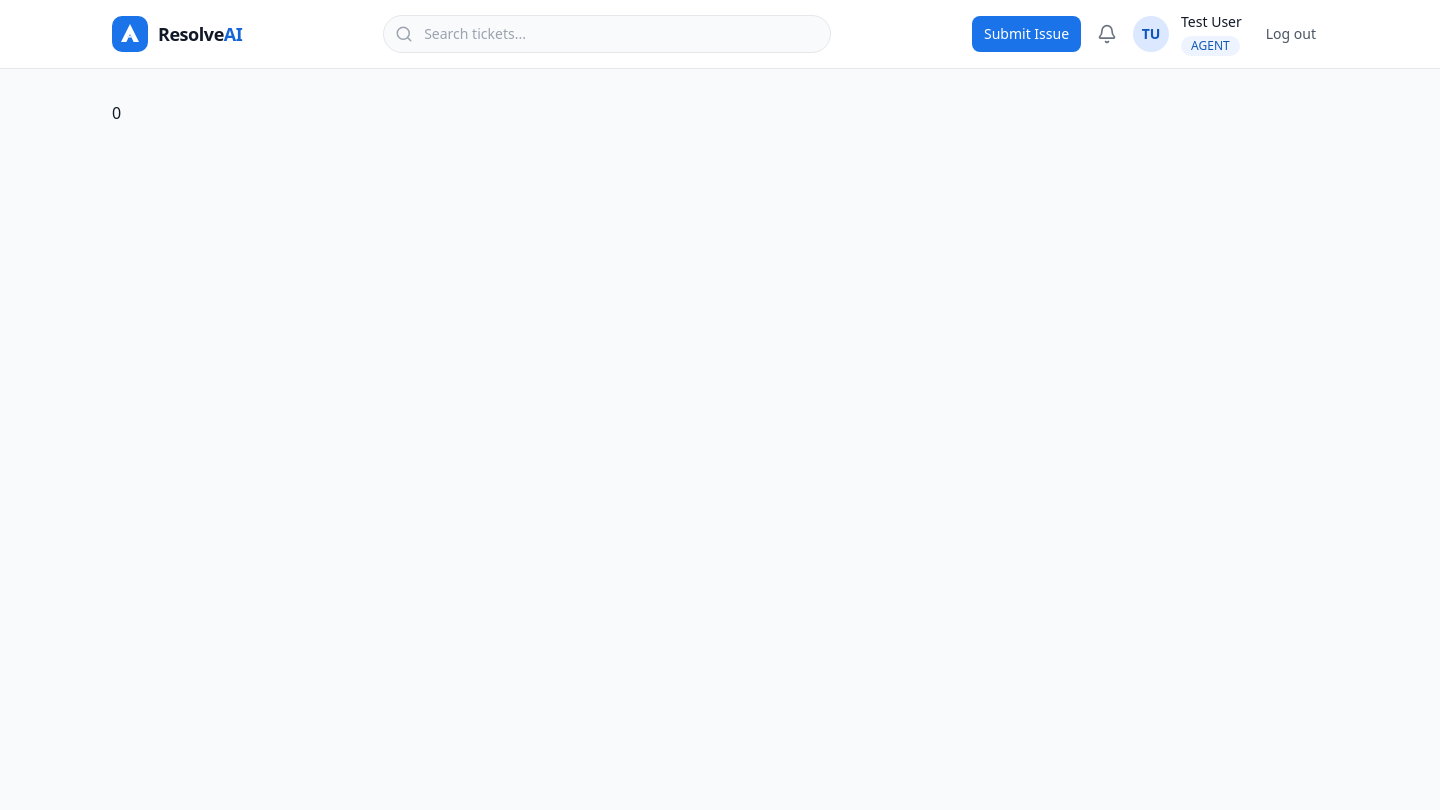
it: AppLayout submit flow › increments ticketsVersion, shows triage details for agents, and dismisses the notice
Click the button "Submit Issue" at x=1027, y=34, box [972,16,1081,52]
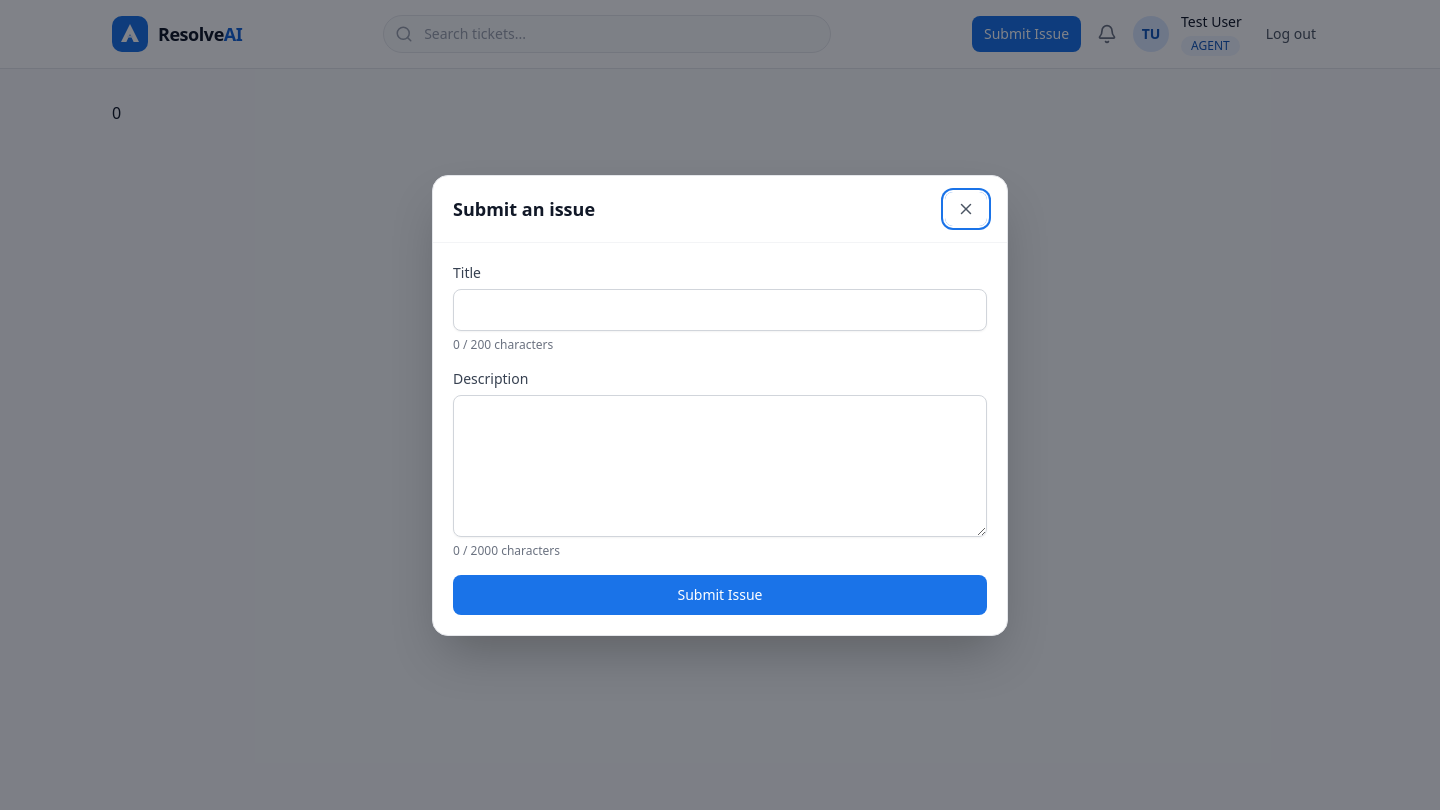
Type "Layout issue" into the field labelled "Title" at x=720, y=310, box [453,288,987,330]
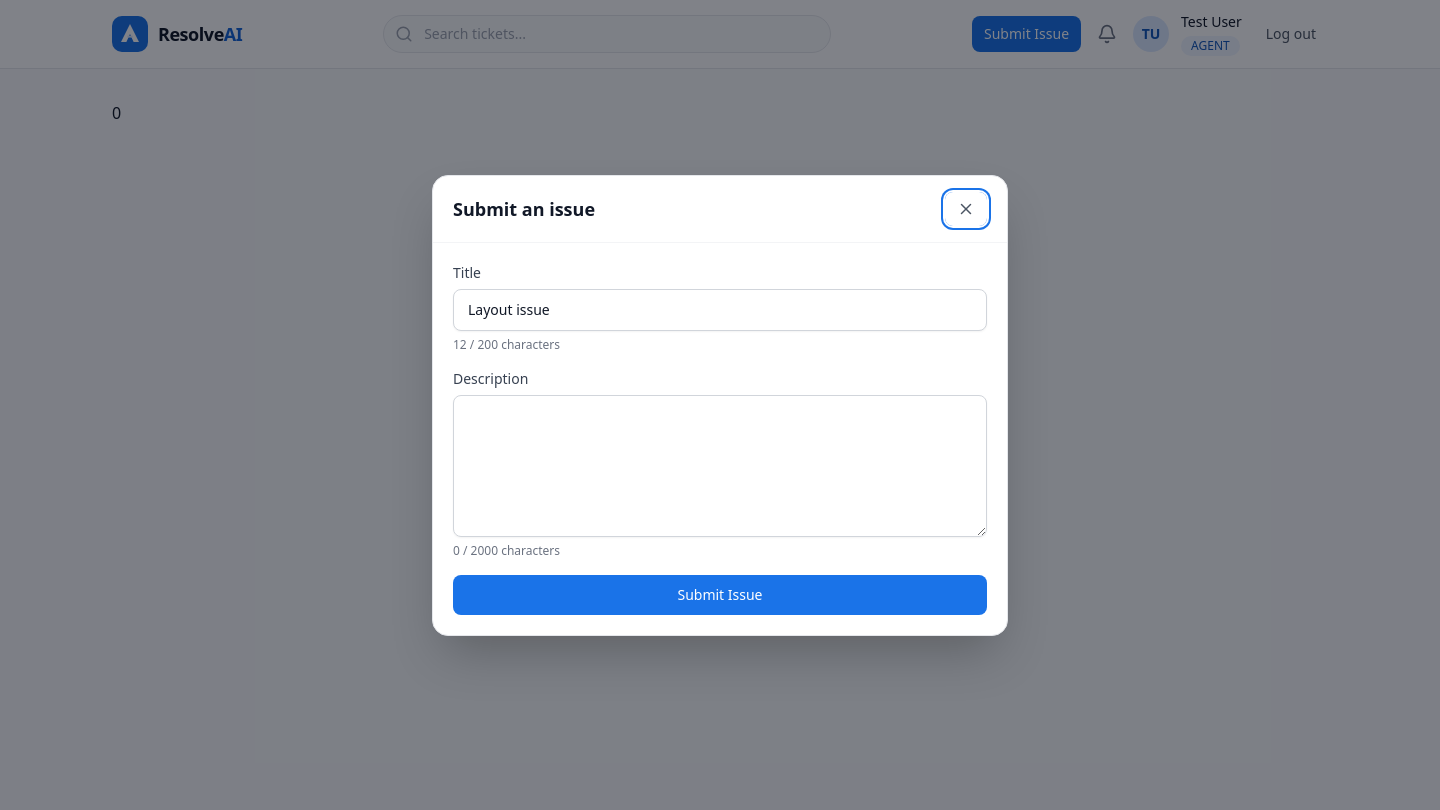
Type "The page layout has a visible issue." into the text box labelled "Description" at x=720, y=466, box [453,394,987,536]
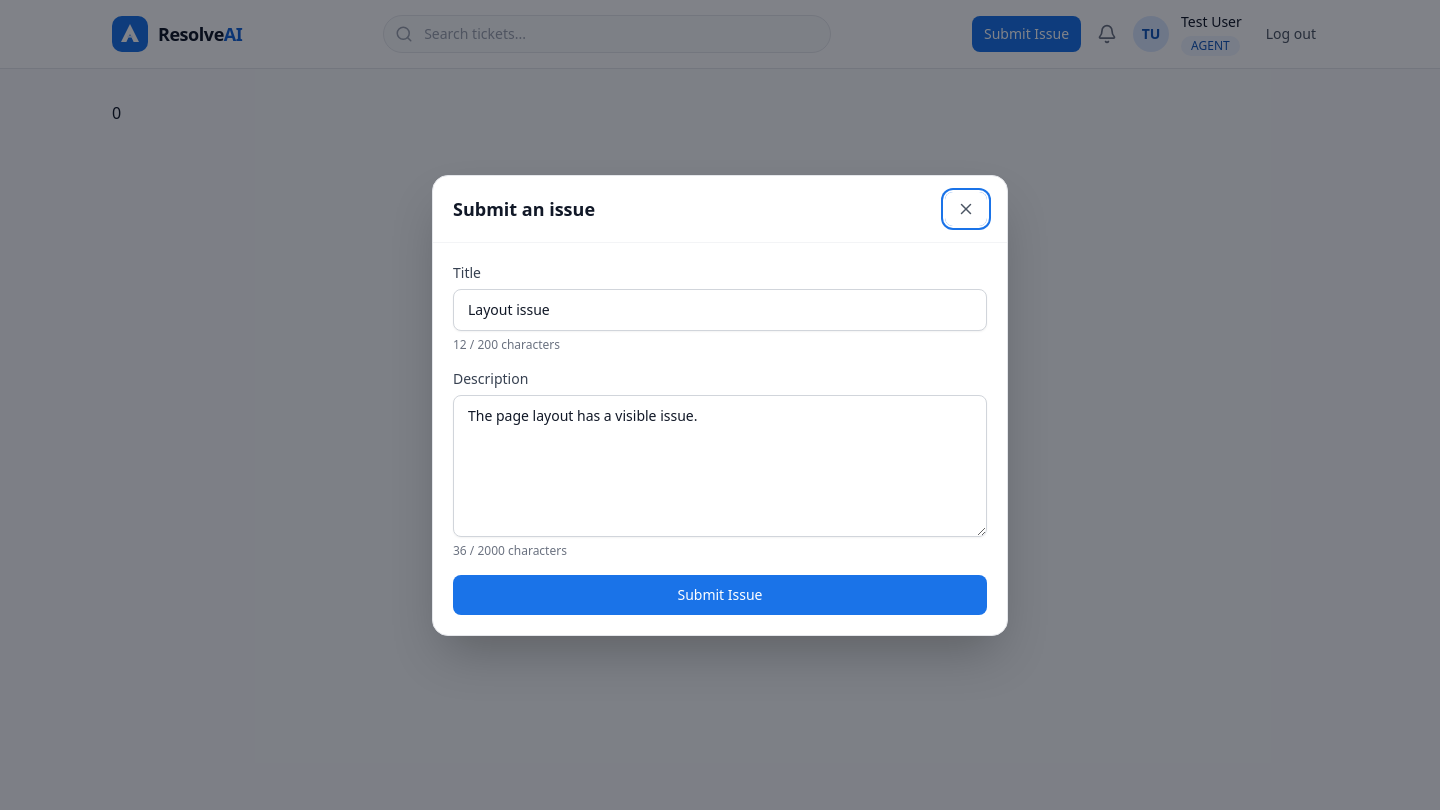
Click the button "Submit Issue" at x=720, y=594, box [453,574,987,614]
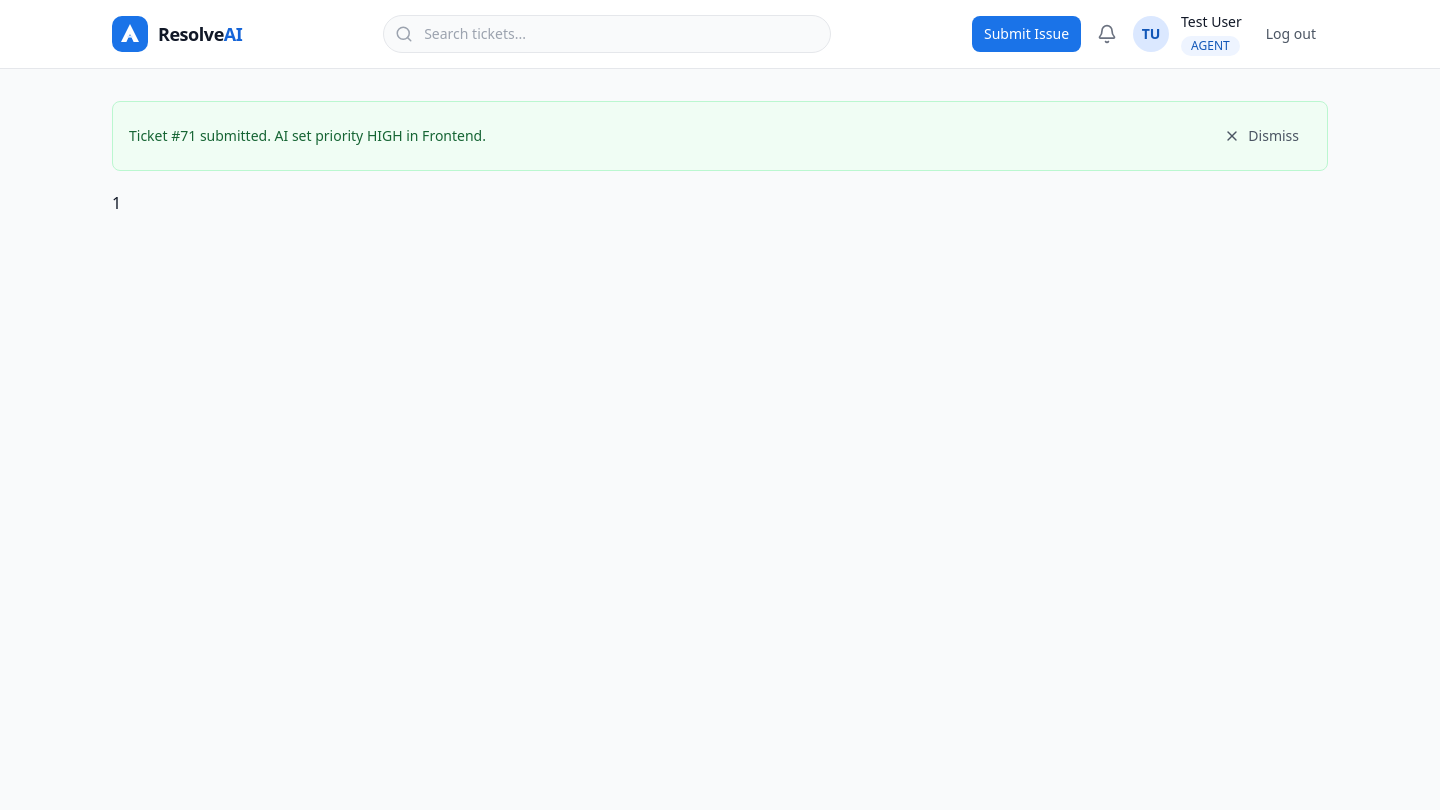
expect the text "Ticket #71 submitted. AI set priority HIGH in Frontend." is shown: met, box [129,126,486,146]
expect the text with test id "tickets-version" reads "1": met, box [112,192,121,214]
Click the button with aria-label "Dismiss notice" at x=1262, y=136, box [1212,118,1311,154]
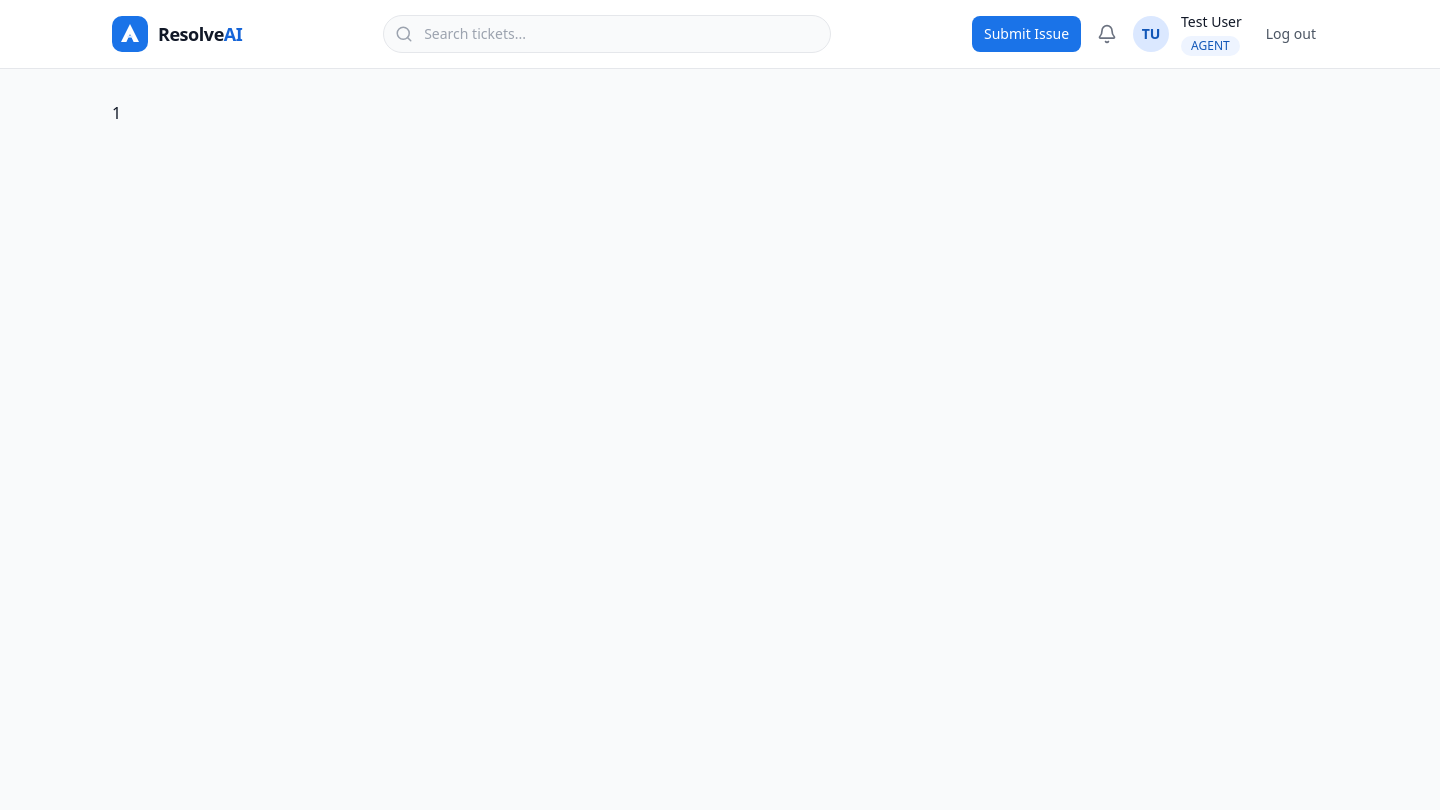
expect the message "Ticket #71 submitted. AI set priority HIGH in Frontend. Dismiss" is gone: met
